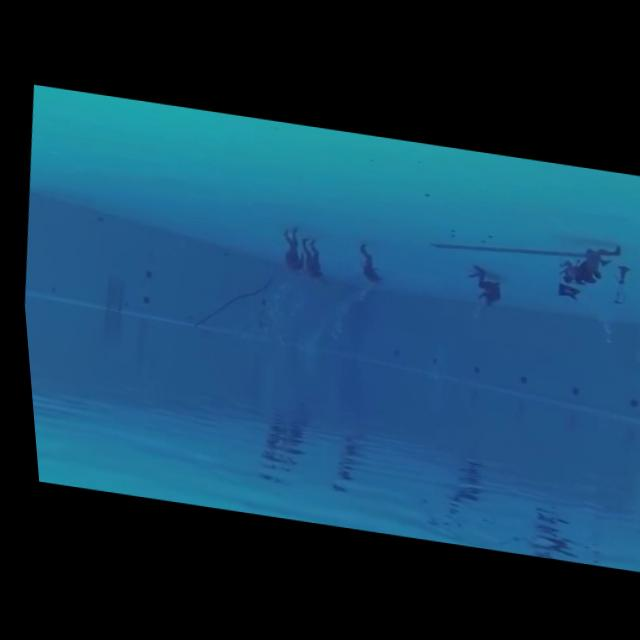human: (537, 228, 628, 309), (341, 234, 391, 295), (454, 258, 503, 317), (269, 222, 308, 282), (290, 232, 328, 291)
